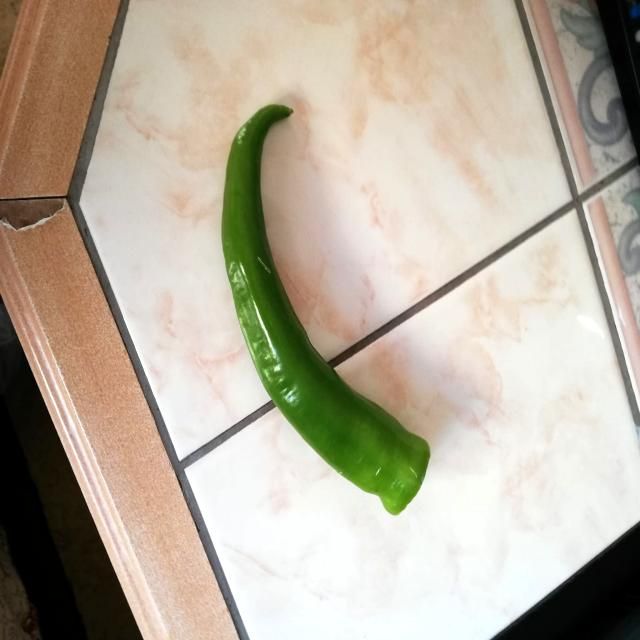green pepper: (220, 101, 431, 520)
